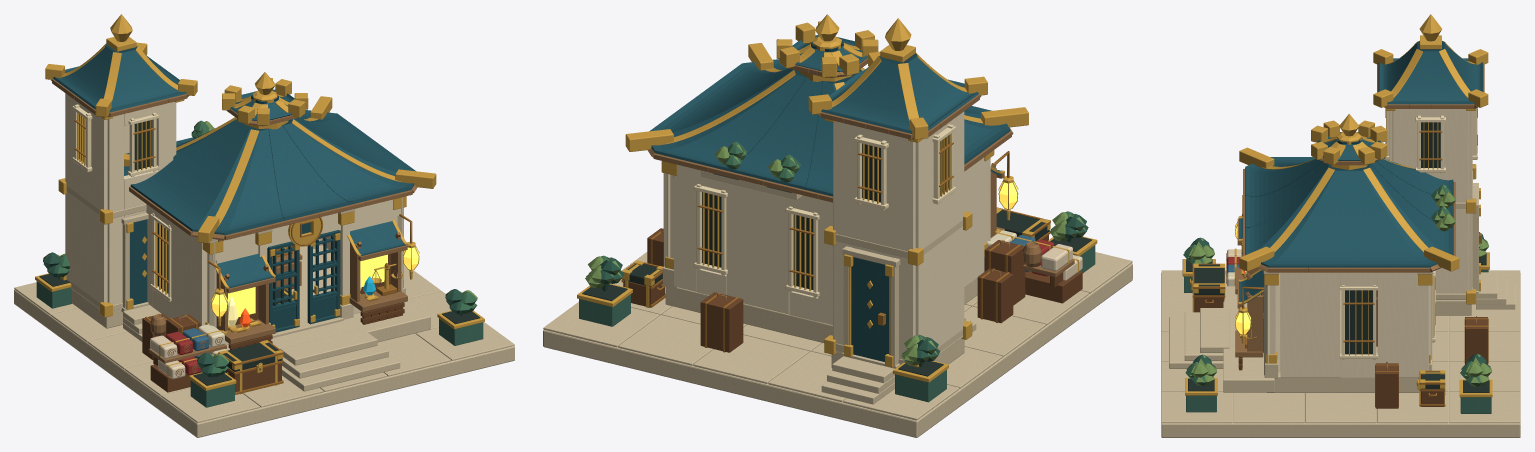
File: treasure.glb
3 views of the same model, side by side, from view 1: azimuth 30°, elevation 25°; view 2: azimuth 150°, elevation 25°; view 3: azimuth 270°, elevation 25° (orthographic). The views are drawn at different scales.
Parts seen in each view (by area): view 1: RFbatch_25.026, RFbatch_0.026, RFbatch_14.026, RFbatch_3.026, RFbatch_24.026, RFbatch_32.026, RFbatch_89.017, RFbatch_49.026, RFbatch_2.026, RFbatch_28.026, RFbatch_35.026, RFbatch_36.026 (+37 smaller); view 2: RFbatch_0.026, RFbatch_14.026, RFbatch_3.026, RFbatch_25.026, RFbatch_63.026, RFbatch_32.026, RFbatch_28.026, RFbatch_35.026, RFbatch_15.026, RFbatch_89.017, RFbatch_1.026, RFbatch_5.026 (+27 smaller); view 3: RFbatch_0.026, RFbatch_25.026, RFbatch_3.026, RFbatch_14.026, RFbatch_32.026, RFbatch_89.017, RFbatch_24.026, RFbatch_28.026, RFbatch_63.026, RFbatch_35.026, RFbatch_2.026, RFbatch_1.026 (+29 smaller).
Part boxes in pixels (x1=…): RFbatch_25.026: x1=124, y1=110, x2=415, y2=235; RFbatch_0.026: x1=14, y1=264, x2=514, y2=437; RFbatch_14.026: x1=65, y1=93, x2=176, y2=312; RFbatch_3.026: x1=146, y1=197, x2=403, y2=344; RFbatch_24.026: x1=123, y1=305, x2=400, y2=391; RFbatch_32.026: x1=53, y1=46, x2=186, y2=112; RFbatch_89.017: x1=124, y1=96, x2=436, y2=243; RFbatch_49.026: x1=217, y1=234, x2=407, y2=344; RFbatch_2.026: x1=226, y1=300, x2=430, y2=350; RFbatch_28.026: x1=222, y1=72, x2=308, y2=129; RFbatch_35.026: x1=45, y1=14, x2=197, y2=117; RFbatch_36.026: x1=217, y1=221, x2=405, y2=288; RFbatch_0.026: x1=543, y1=252, x2=1132, y2=437; RFbatch_14.026: x1=833, y1=111, x2=964, y2=359; RFbatch_3.026: x1=663, y1=157, x2=990, y2=324; RFbatch_25.026: x1=649, y1=59, x2=1010, y2=196; RFbatch_63.026: x1=623, y1=228, x2=1048, y2=352; RFbatch_32.026: x1=821, y1=56, x2=978, y2=133; RFbatch_28.026: x1=776, y1=14, x2=878, y2=81; RFbatch_35.026: x1=808, y1=18, x2=987, y2=139; RFbatch_15.026: x1=851, y1=257, x2=888, y2=361; RFbatch_89.017: x1=625, y1=43, x2=1028, y2=151; RFbatch_1.026: x1=665, y1=278, x2=977, y2=342; RFbatch_5.026: x1=694, y1=184, x2=819, y2=297; RFbatch_0.026: x1=1161, y1=270, x2=1520, y2=437; RFbatch_25.026: x1=1245, y1=157, x2=1453, y2=267; RFbatch_3.026: x1=1264, y1=272, x2=1432, y2=377; RFbatch_14.026: x1=1389, y1=109, x2=1472, y2=300; RFbatch_32.026: x1=1378, y1=42, x2=1483, y2=104; RFbatch_89.017: x1=1239, y1=147, x2=1459, y2=271; RFbatch_24.026: x1=1169, y1=308, x2=1229, y2=368; RFbatch_28.026: x1=1311, y1=113, x2=1387, y2=169; RFbatch_63.026: x1=1194, y1=297, x2=1487, y2=408; RFbatch_35.026: x1=1373, y1=14, x2=1488, y2=107; RFbatch_2.026: x1=1223, y1=281, x2=1274, y2=392; RFbatch_1.026: x1=1267, y1=290, x2=1420, y2=392.
Bounding box in the file's own units: 10 × 9.27 × 10.
23 materials, 14 textured.
